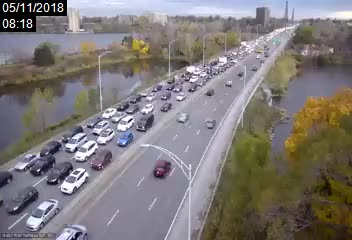congestion: (1, 127, 120, 232), (77, 87, 172, 149), (132, 61, 222, 101), (201, 44, 246, 73)
personal_car: (26, 199, 61, 230), (6, 186, 37, 214), (60, 168, 89, 194), (46, 162, 72, 183), (58, 223, 88, 240), (75, 141, 98, 162), (64, 133, 88, 153), (15, 152, 40, 170), (91, 149, 112, 170), (31, 157, 55, 175), (152, 158, 171, 178), (40, 140, 61, 157), (62, 126, 82, 141), (136, 115, 153, 132), (98, 128, 115, 145), (117, 132, 133, 147), (1, 166, 11, 188), (118, 116, 132, 130), (93, 121, 107, 134), (125, 103, 140, 115), (102, 106, 115, 118), (87, 116, 100, 128), (176, 112, 188, 124), (110, 111, 123, 122), (195, 77, 205, 89), (117, 100, 129, 110), (160, 101, 171, 111), (141, 104, 152, 114), (205, 118, 215, 129), (185, 65, 197, 74), (145, 93, 155, 103), (160, 90, 171, 99), (205, 86, 214, 97), (176, 74, 184, 86), (218, 57, 228, 66), (176, 92, 186, 101), (129, 94, 139, 103), (152, 84, 162, 92), (208, 58, 217, 66), (188, 84, 197, 92), (166, 76, 175, 84), (174, 84, 183, 92), (139, 89, 149, 96), (204, 73, 212, 81), (205, 66, 212, 75), (198, 65, 205, 74), (166, 82, 173, 91), (217, 65, 225, 72), (190, 75, 197, 83), (183, 73, 191, 80), (225, 80, 232, 87), (212, 66, 218, 74)
